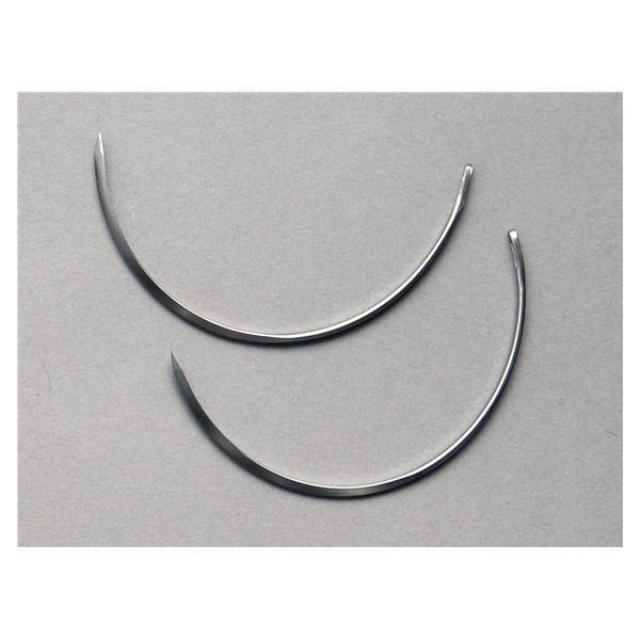Needle: (166, 225, 532, 507), (88, 127, 480, 352)
